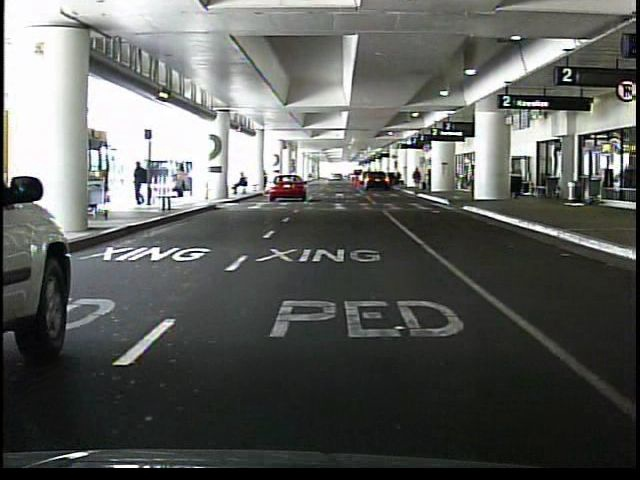person: (134, 160, 150, 207), (232, 172, 250, 195), (468, 162, 477, 200), (413, 165, 423, 193)
